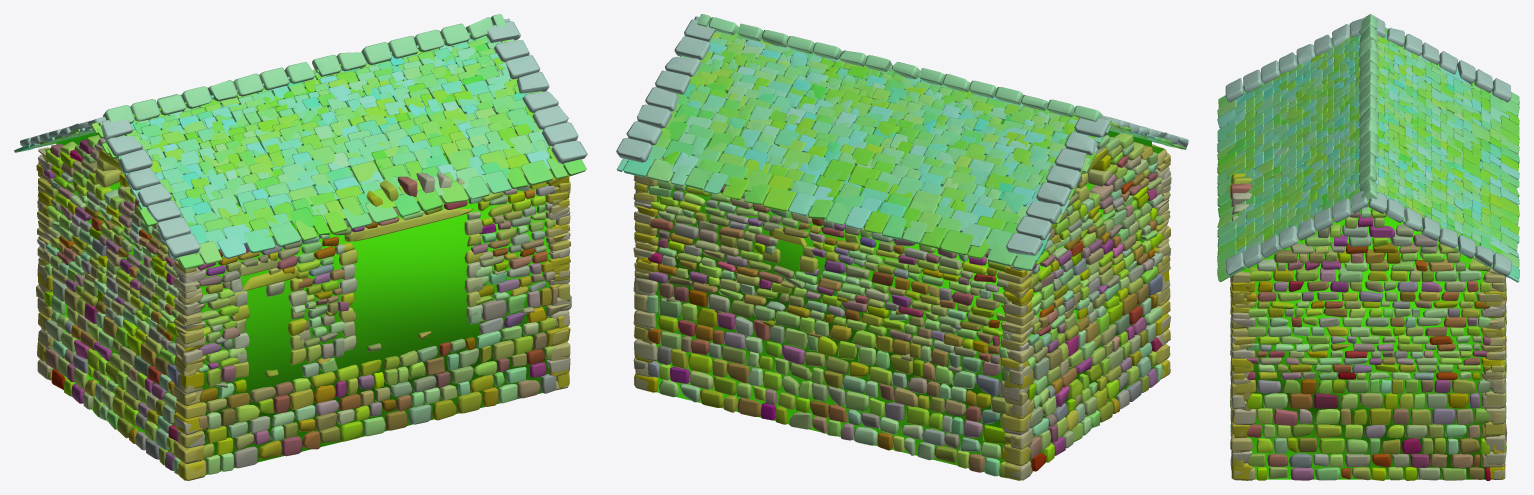
Rendered from SM_Barn_08.glb.
The picture shows the model from 3 angles, left to right: view 1: azimuth 30°, elevation 25°; view 2: azimuth 150°, elevation 25°; view 3: azimuth 270°, elevation 25°; orthographic projection. The views are drawn at different scales.
Parts seen in each view (by area): view 1: SM_Barn_08; view 2: SM_Barn_08; view 3: SM_Barn_08.
Boxes of the visible parts, box(x1,y1,x2,y2) form: SM_Barn_08: box(14, 14, 587, 480); SM_Barn_08: box(616, 14, 1188, 480); SM_Barn_08: box(1217, 14, 1519, 480).
Bounding box in the file's own units: 9.78 × 7.08 × 6.61.
